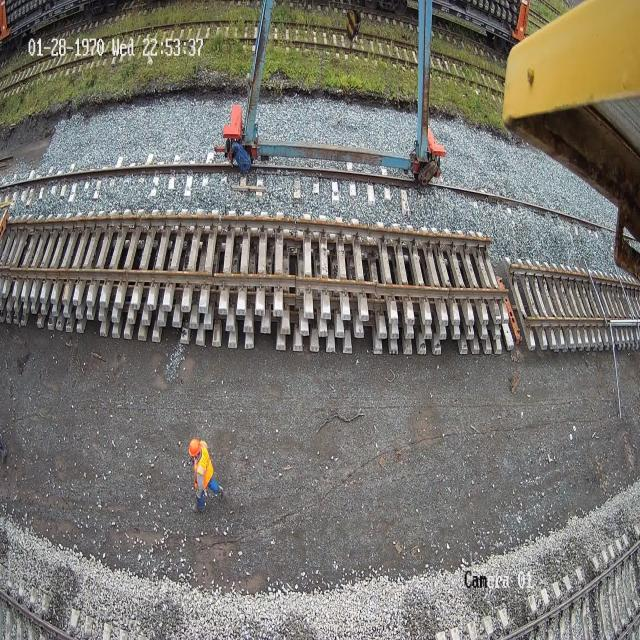Helmet: (188, 438, 200, 457)
Person: (188, 437, 224, 511)
